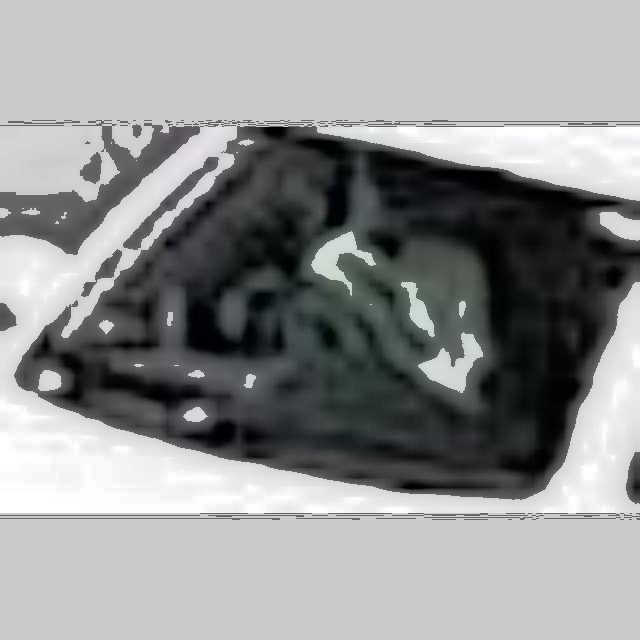pakai: (274, 178, 477, 391)
